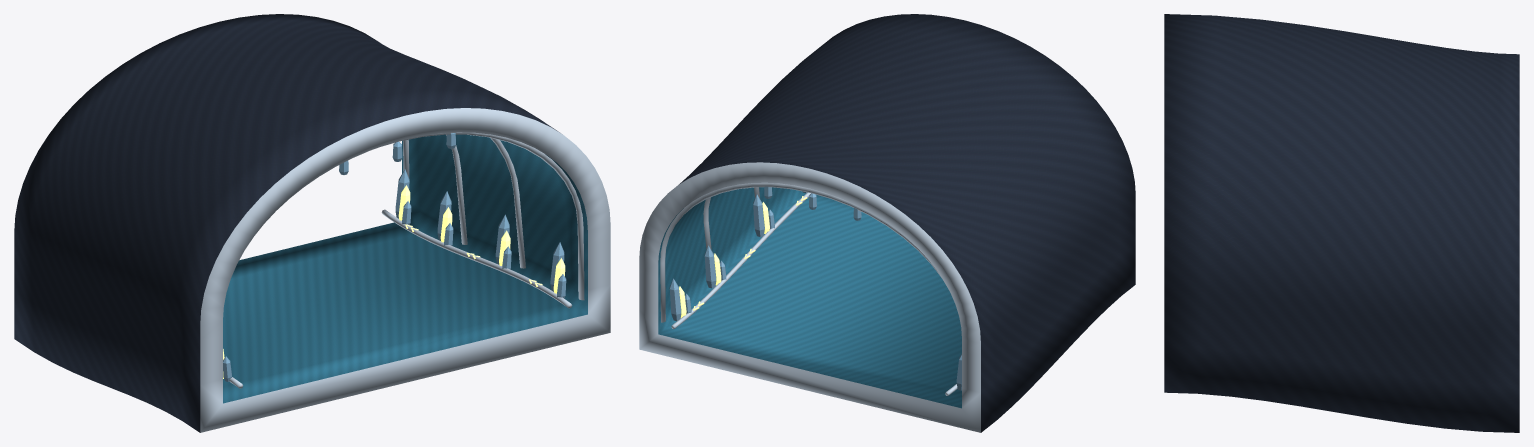
File: grade_down_lod1.glb
The picture shows the model from 3 angles, left to right: view 1: azimuth 30°, elevation 25°; view 2: azimuth 150°, elevation 25°; view 3: azimuth 270°, elevation 25°; orthographic projection. The views are drawn at different scales.
Parts seen in each view (by area): view 1: TunnelGeometry.001; view 2: TunnelGeometry.001; view 3: TunnelGeometry.001.
Boxes of the visible parts, x1,y1,x2,y2 form: TunnelGeometry.001: (14, 14, 610, 432); TunnelGeometry.001: (639, 14, 1135, 432); TunnelGeometry.001: (1164, 14, 1519, 432).
Bounding box in the file's own units: 15.3 × 11.02 × 12.
5 materials, 2 textured.
